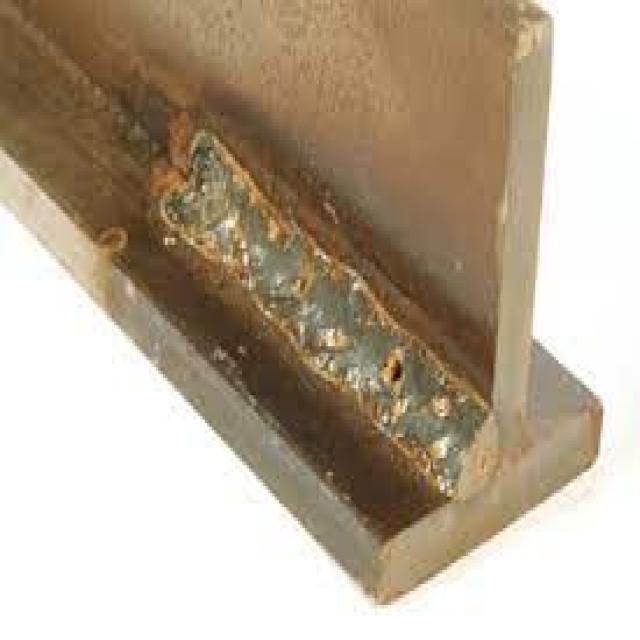Porosity: (160, 133, 486, 496)
